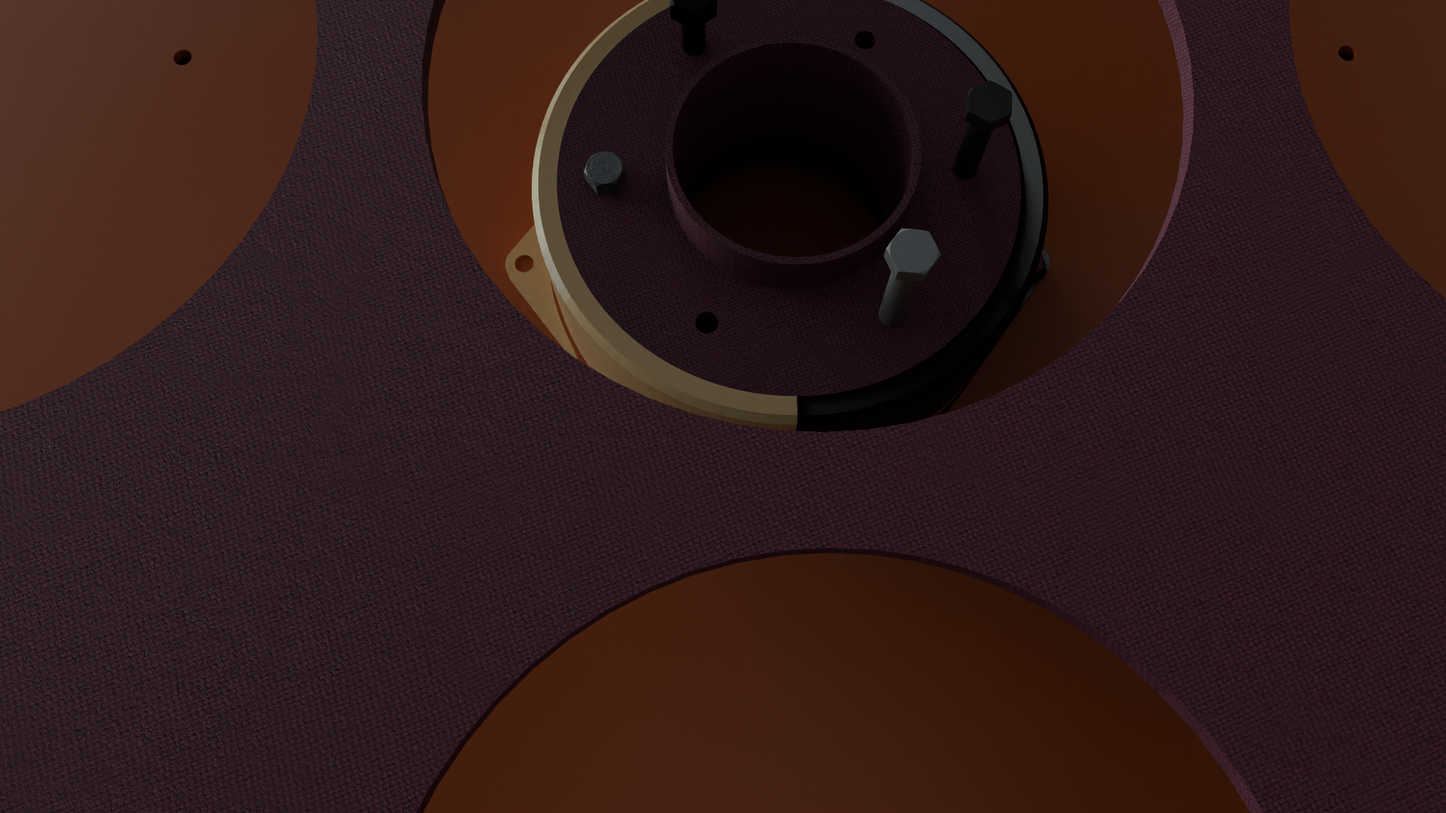bolt: (886, 229, 941, 275), (968, 81, 1012, 123), (584, 151, 625, 187), (670, 0, 717, 16)
